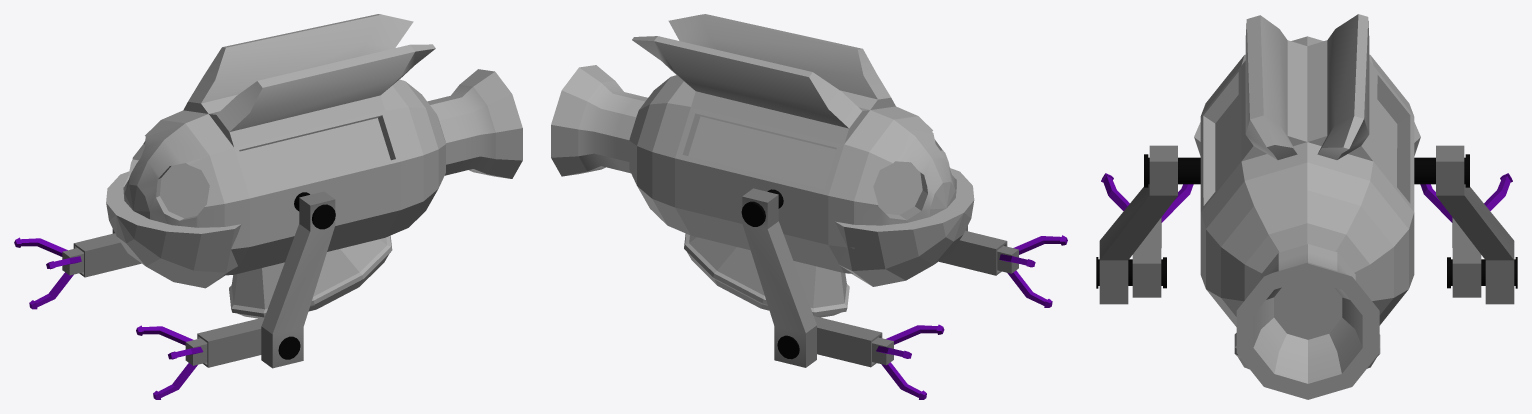
The model's file is Fast Chip.fbx.
3 views of the same model, side by side, from view 1: azimuth 30°, elevation 25°; view 2: azimuth 150°, elevation 25°; view 3: azimuth 270°, elevation 25° (orthographic). The views are drawn at different scales.
Parts seen in each view (by area): view 1: pasted__polySurface7, pasted__pasted__Hand2, pasted__pCylinder6, pasted__pSphere5, pasted__pCylinder5; view 2: pasted__polySurface7, pasted__pasted__Hand2, pasted__pCylinder6, pasted__pSphere5, pasted__pCylinder5; view 3: pasted__polySurface7, pasted__pasted__Hand2, pasted__pCylinder6.
Part boxes in pixels (x1=…): pasted__polySurface7: x1=123, y1=14, x2=445, y2=275; pasted__pasted__Hand2: x1=14, y1=191, x2=335, y2=399; pasted__pCylinder6: x1=427, y1=69, x2=522, y2=178; pasted__pSphere5: x1=106, y1=171, x2=241, y2=288; pasted__pCylinder5: x1=229, y1=235, x2=392, y2=318; pasted__polySurface7: x1=629, y1=14, x2=956, y2=273; pasted__pasted__Hand2: x1=741, y1=188, x2=1067, y2=399; pasted__pCylinder6: x1=551, y1=65, x2=647, y2=176; pasted__pSphere5: x1=835, y1=168, x2=974, y2=286; pasted__pCylinder5: x1=684, y1=233, x2=849, y2=317; pasted__polySurface7: x1=1200, y1=14, x2=1414, y2=326; pasted__pasted__Hand2: x1=1096, y1=145, x2=1517, y2=304; pasted__pCylinder6: x1=1236, y1=244, x2=1379, y2=399.
Bounding box in the file's own units: 12.08 × 7.3 × 8.43.
